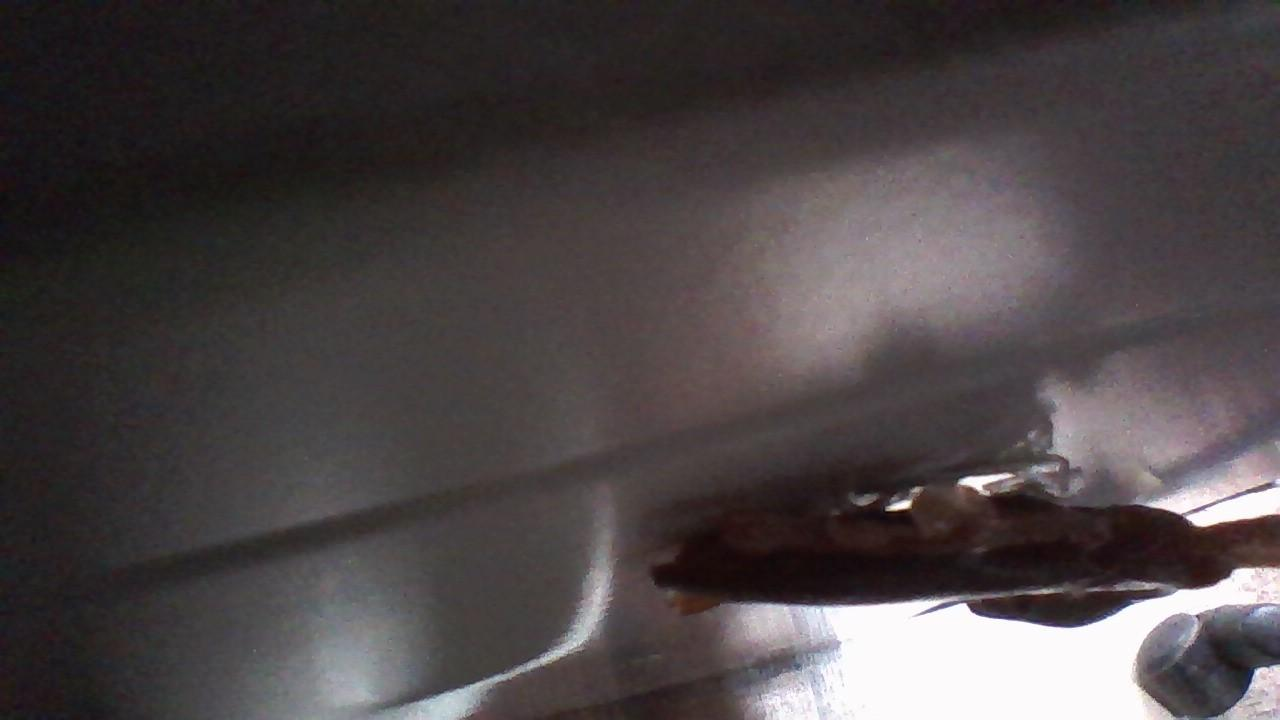cockroach: (637, 432, 1236, 639)
